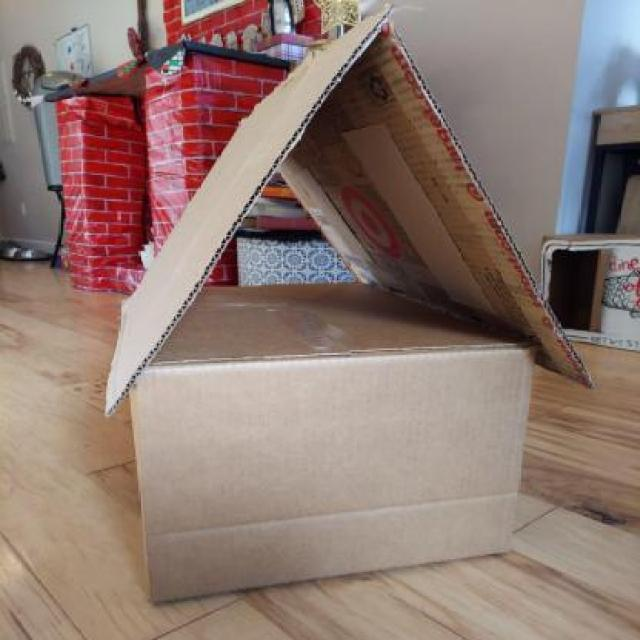box: (94, 0, 608, 612)
